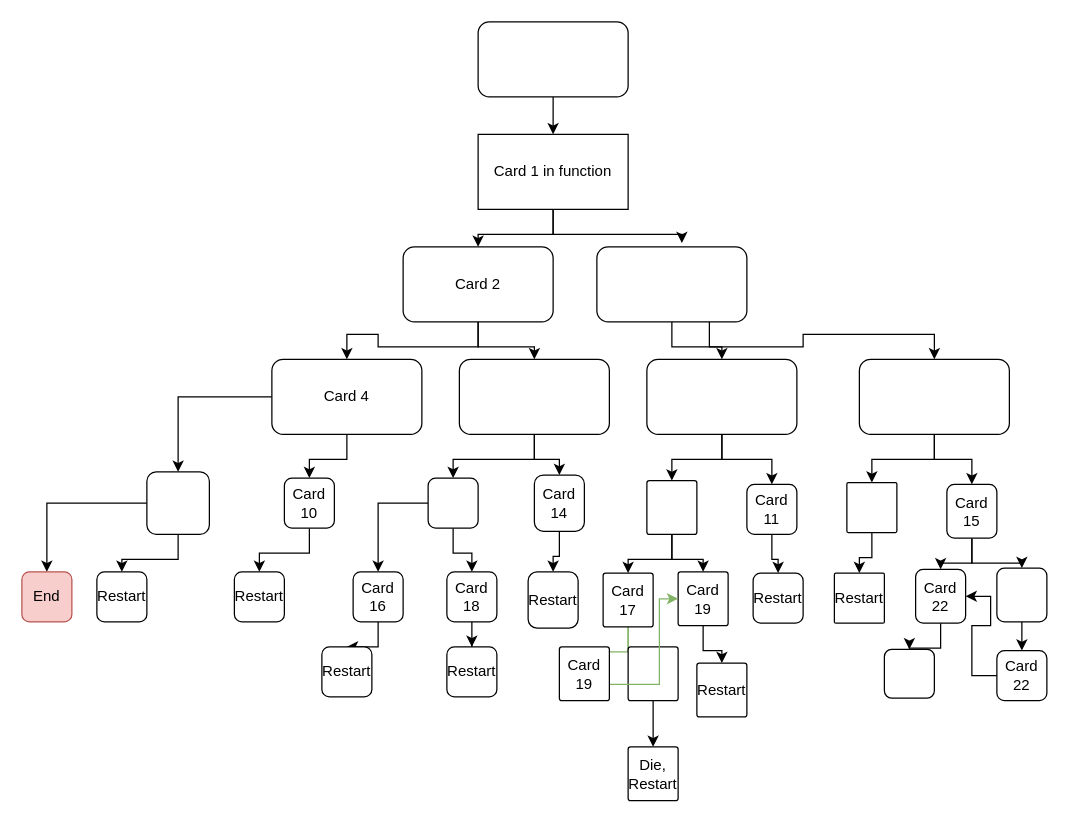
Image size: 1069x823. Some labels were removed from this diagram. The centre of each missing label's shape, as x and y in pixels:
"Card 12" belongs at (x=452, y=502).
"Card 13" belongs at (x=871, y=506).
"Card 20" belongs at (x=652, y=673).
"Card 21" belongs at (x=1021, y=594).
"Card 3" belongs at (x=671, y=284).
"Card 5" belongs at (x=721, y=396).
"Card 6" belongs at (x=533, y=396).
"Card 7" belongs at (x=933, y=396).
"Card 8" belongs at (x=177, y=502).
"Card 9" belongs at (x=671, y=506).
"Start" belongs at (x=552, y=59).
"Win, Restart" belongs at (x=908, y=673).
